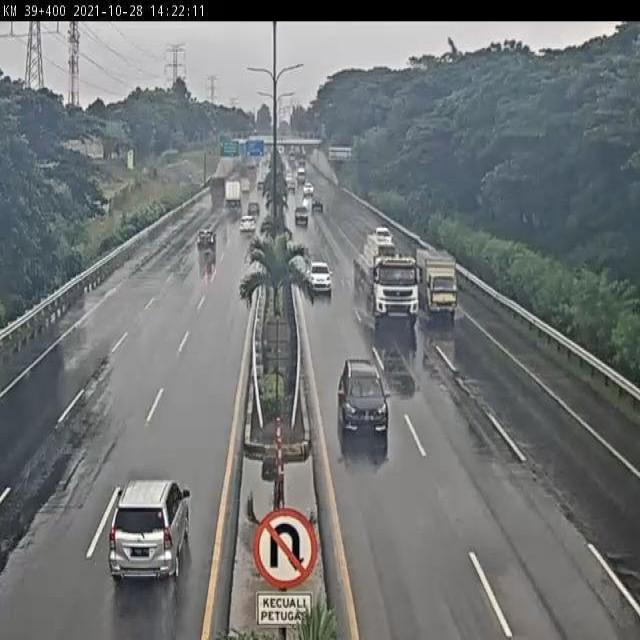big truck: (355, 234, 421, 330)
car: (105, 476, 196, 585), (330, 356, 394, 441), (306, 260, 335, 304), (291, 204, 314, 236), (192, 224, 215, 251), (240, 213, 258, 239)
small truck: (416, 245, 464, 323)
